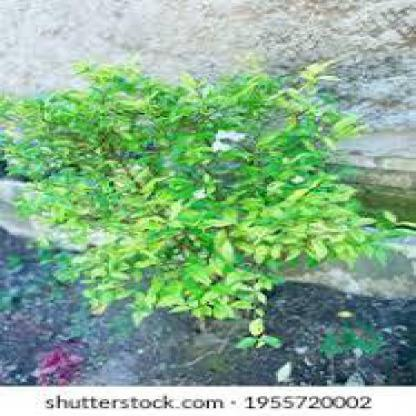Melati: (201, 114, 246, 159)
